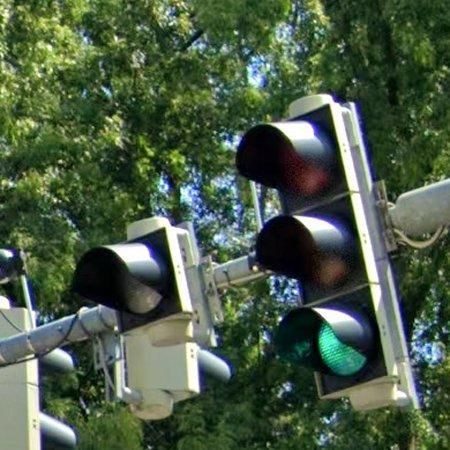traffic lights: (237, 95, 418, 410)
